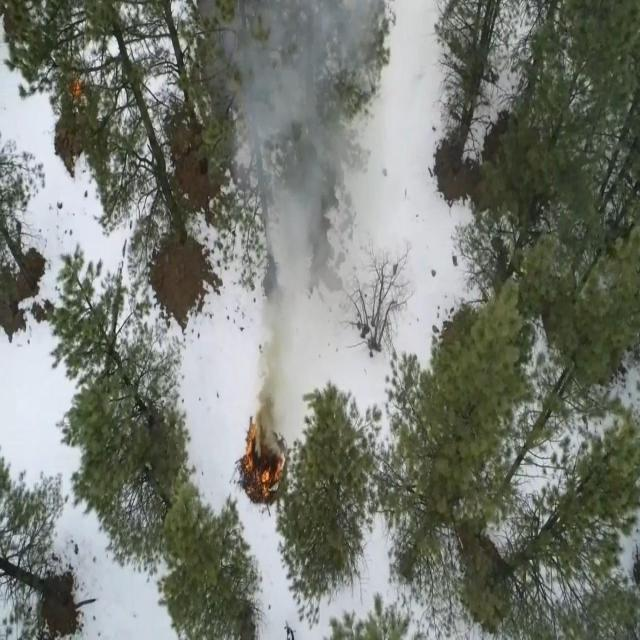Fire: (242, 424, 289, 498)
Smoke: (224, 0, 390, 412)
